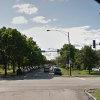Tree: (2, 16, 43, 72)
